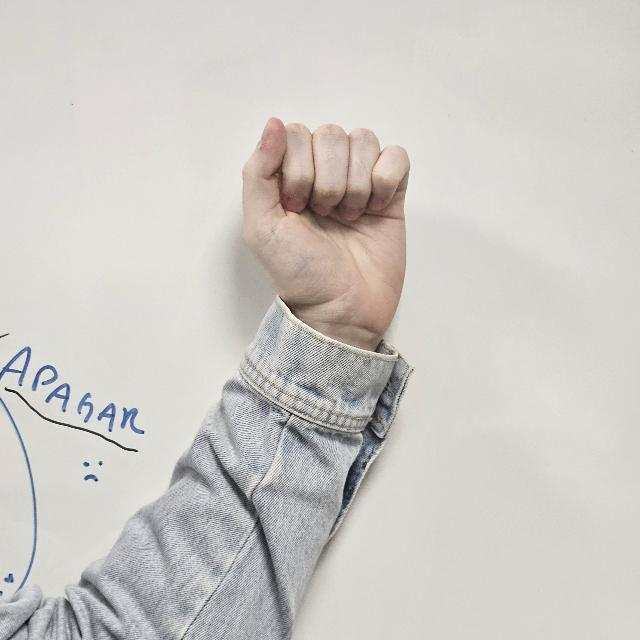Quadro: (244, 98, 412, 340)
